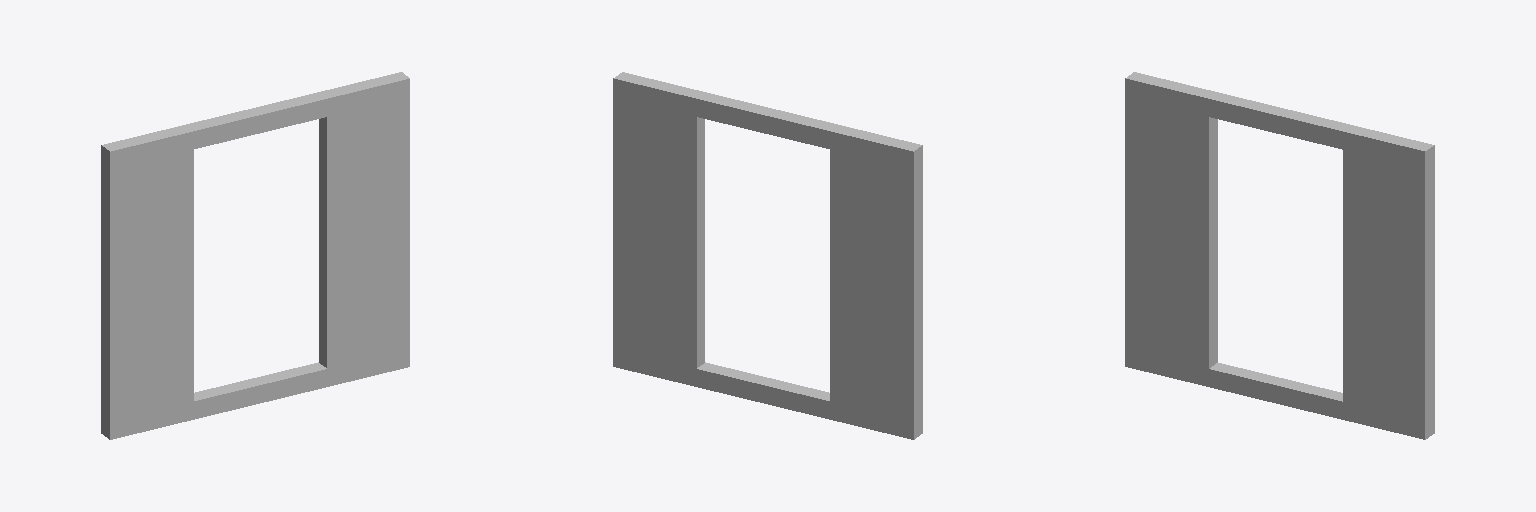
The model's file is doorWayLP.obj.
3 renders of one model, left to right at view 1: azimuth 30°, elevation 25°; view 2: azimuth 150°, elevation 25°; view 3: azimuth 330°, elevation 25°, orthographic.
Parts seen in each view (by area): view 1: doorWayLP:default1; view 2: doorWayLP:default1; view 3: doorWayLP:default1.
Boxes of the visible parts, x1,y1,x2,y2 form: doorWayLP:default1: [101, 72, 409, 439]; doorWayLP:default1: [613, 72, 922, 439]; doorWayLP:default1: [1125, 72, 1434, 439].
Bounding box in the file's own units: 7.02 × 6.44 × 0.3599.